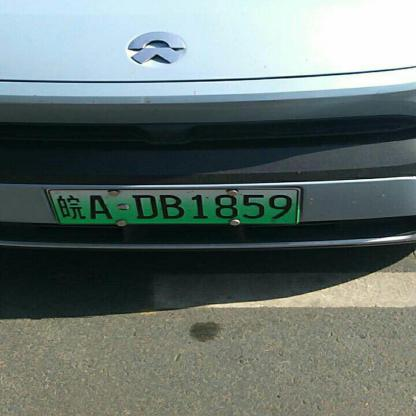lp: (45, 189, 61, 226)
